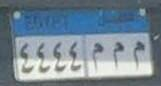4: (36, 40, 51, 74), (53, 39, 65, 73), (68, 41, 80, 72), (22, 40, 32, 75)
meem: (112, 41, 127, 72), (130, 40, 145, 69), (93, 40, 106, 71)
